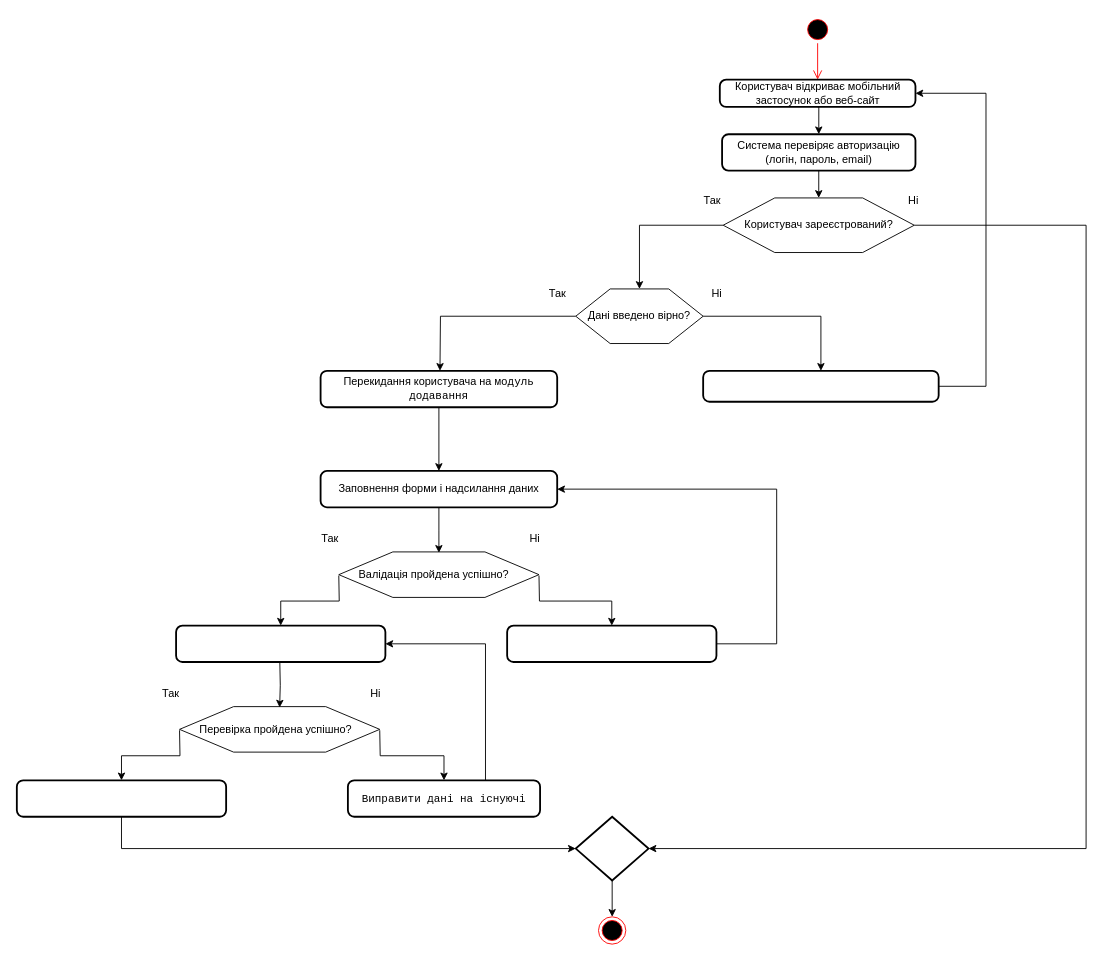
This 1109x960 diagram has some shape labels left out. Here are the shapes that lost their labels. From the top down, the centre of each, then its label:
pixel 820 385: Вивести повідомлення "Невірно введені дані"
pixel 280 643: Передати дані для первірки адміністратору
pixel 611 643: Показати повідомлення про відмову
pixel 121 798: Показати повідомлення про успішне додавання
